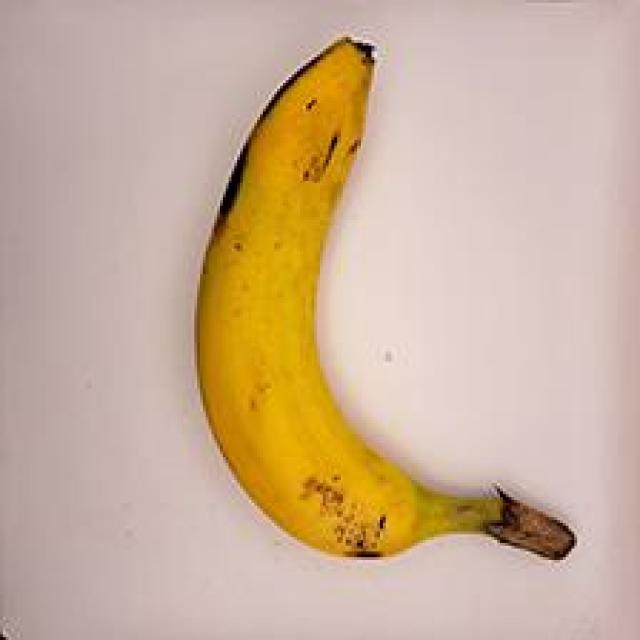ripe: (180, 26, 582, 588)
